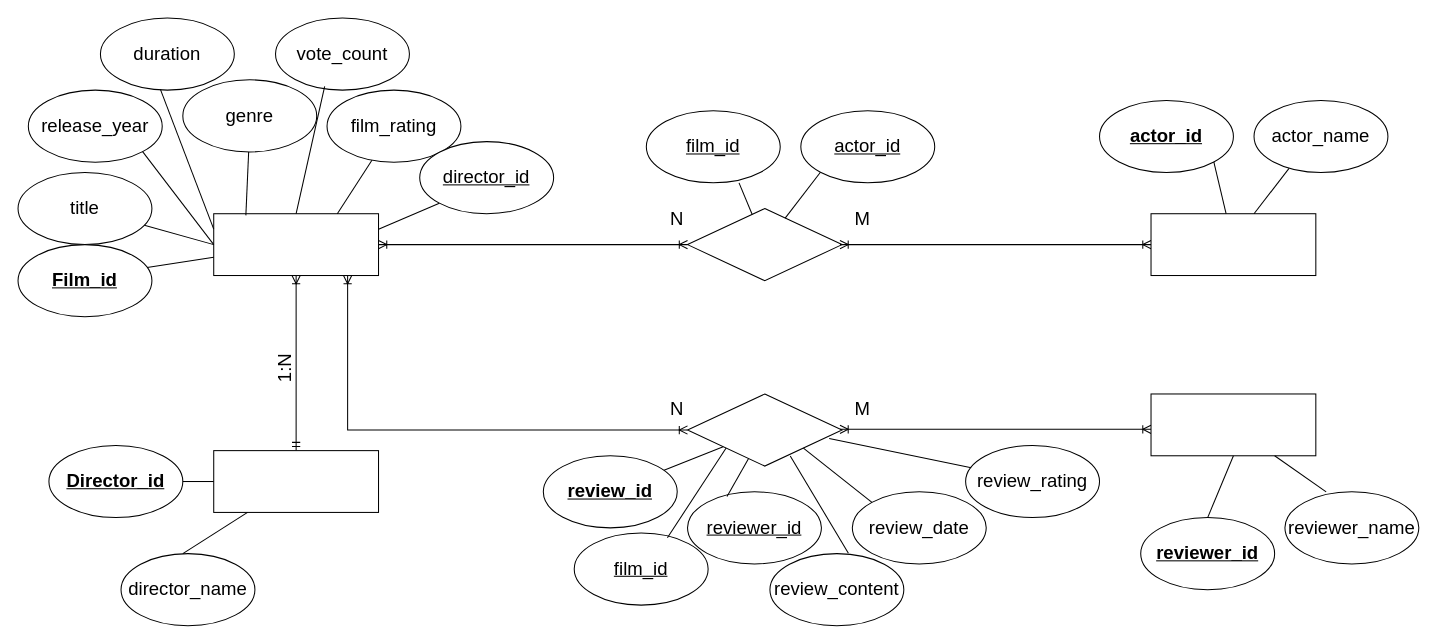
This 1437x644 diagram has some shape labels left out. Here are the shapes that lost their labels. From the top down, the centre of each, then its label:
pixel 296 244: Film
pixel 764 244: Casting
pixel 1233 244: Actor
pixel 764 429: Reviews
pixel 1233 424: Reviewers
pixel 296 481: Director
